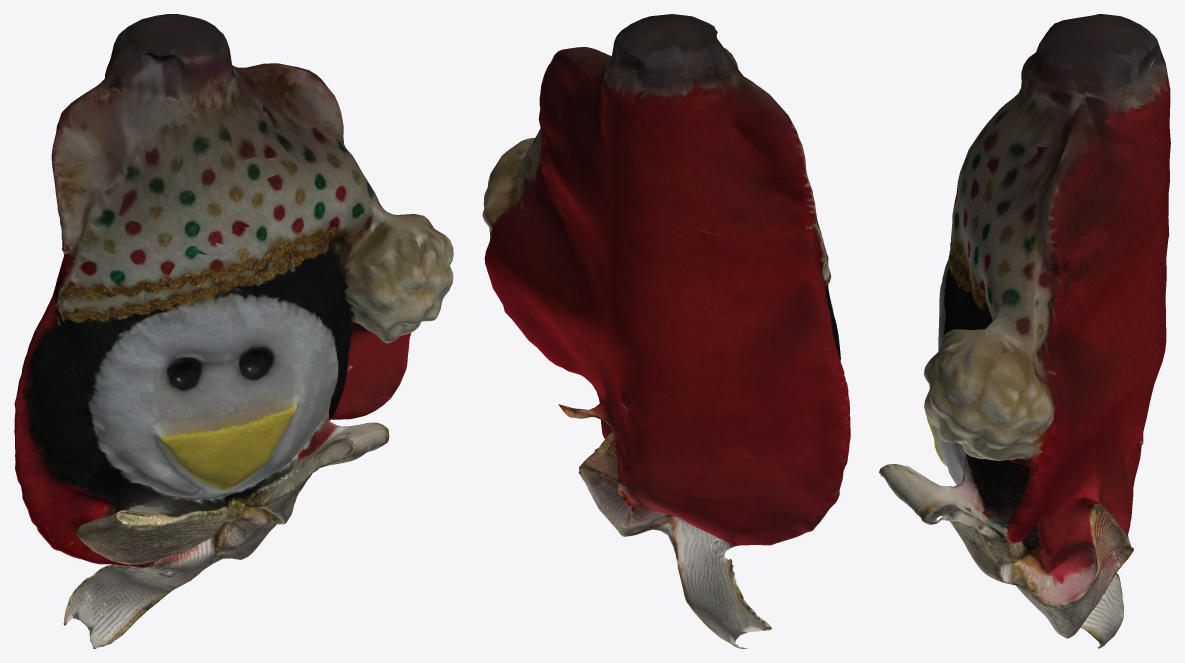
Rendered from PinguinoFinal.glb.
The picture shows the model from 3 angles, left to right: view 1: azimuth 30°, elevation 25°; view 2: azimuth 150°, elevation 25°; view 3: azimuth 270°, elevation 25°; orthographic projection. The views are drawn at different scales.
Visible parts, largest first — view 1: Mesh_0.005; view 2: Mesh_0.005; view 3: Mesh_0.005.
Part boxes in pixels (x1,y1,x2,y2): Mesh_0.005: [14, 14, 453, 648]; Mesh_0.005: [482, 14, 850, 648]; Mesh_0.005: [879, 14, 1170, 648].
Size of the model in its own units: 0.7151 by 1.05 by 0.4233.
Materials: 1 (1 with a texture image).
